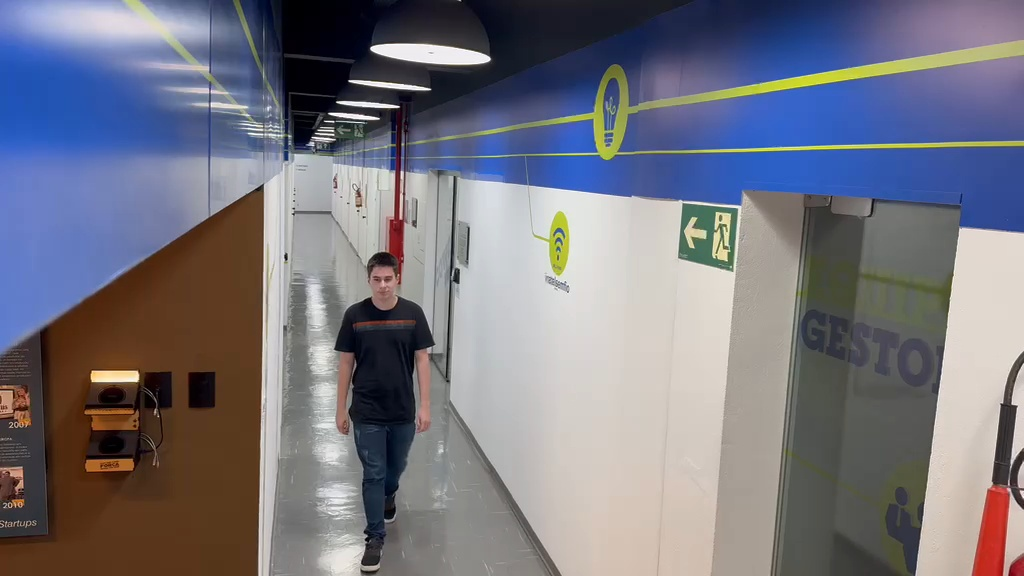person: (334, 251, 436, 570)
